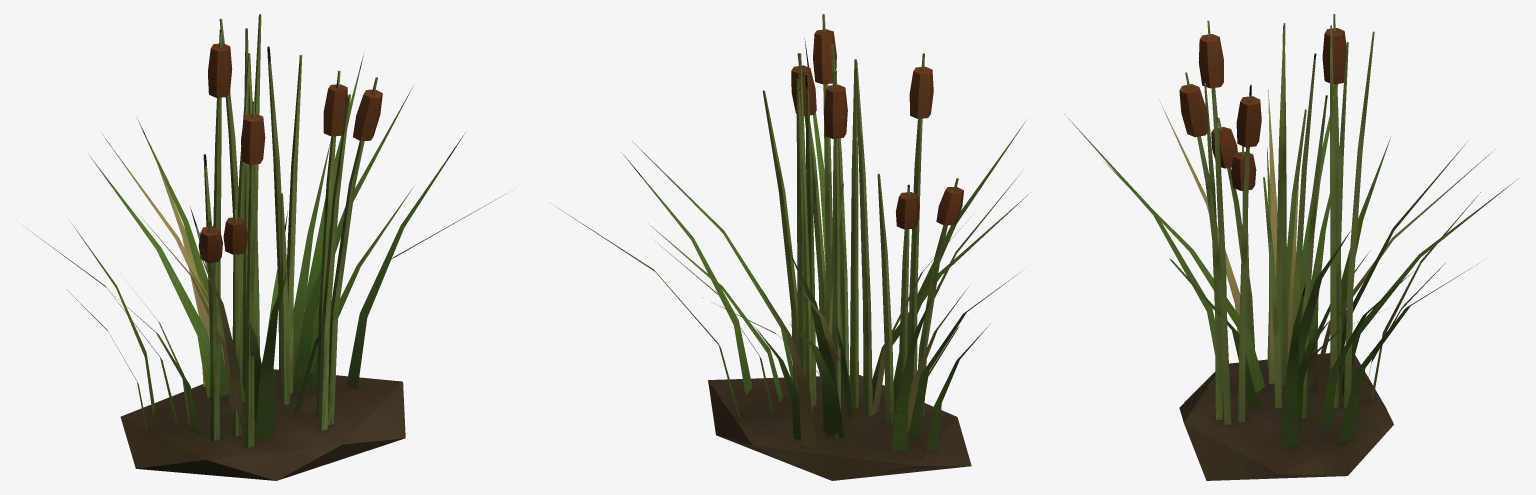
Rendered from bg_swamp_reeds_1_lod0.glb.
3 views of the same model, side by side, from view 1: azimuth 30°, elevation 25°; view 2: azimuth 150°, elevation 25°; view 3: azimuth 270°, elevation 25° (orthographic). The views are drawn at different scales.
Visible parts, largest first — view 1: sway, body; view 2: sway, body; view 3: sway, body.
Boxes of the visible parts, left/top/right/bottom form: sway: left=23, top=14, right=506, bottom=459; body: left=120, top=382, right=405, bottom=480; sway: left=557, top=14, right=1028, bottom=465; body: left=708, top=380, right=971, bottom=480; sway: left=1064, top=14, right=1517, bottom=473; body: left=1179, top=357, right=1393, bottom=480.
Bounding box in the file's own units: 1.66 × 1.5 × 1.48.
1 material, 1 textured.
